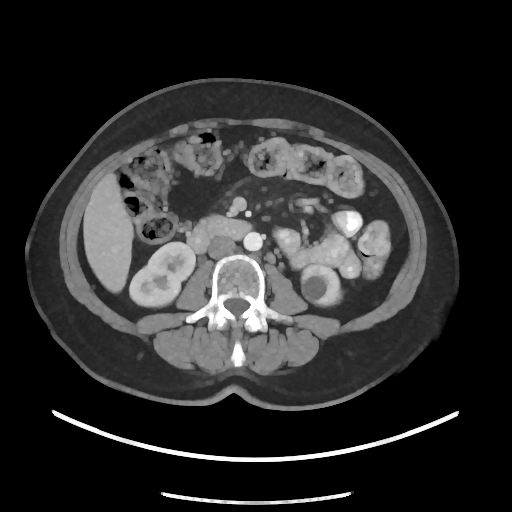Lesion: (301, 272, 329, 304)
